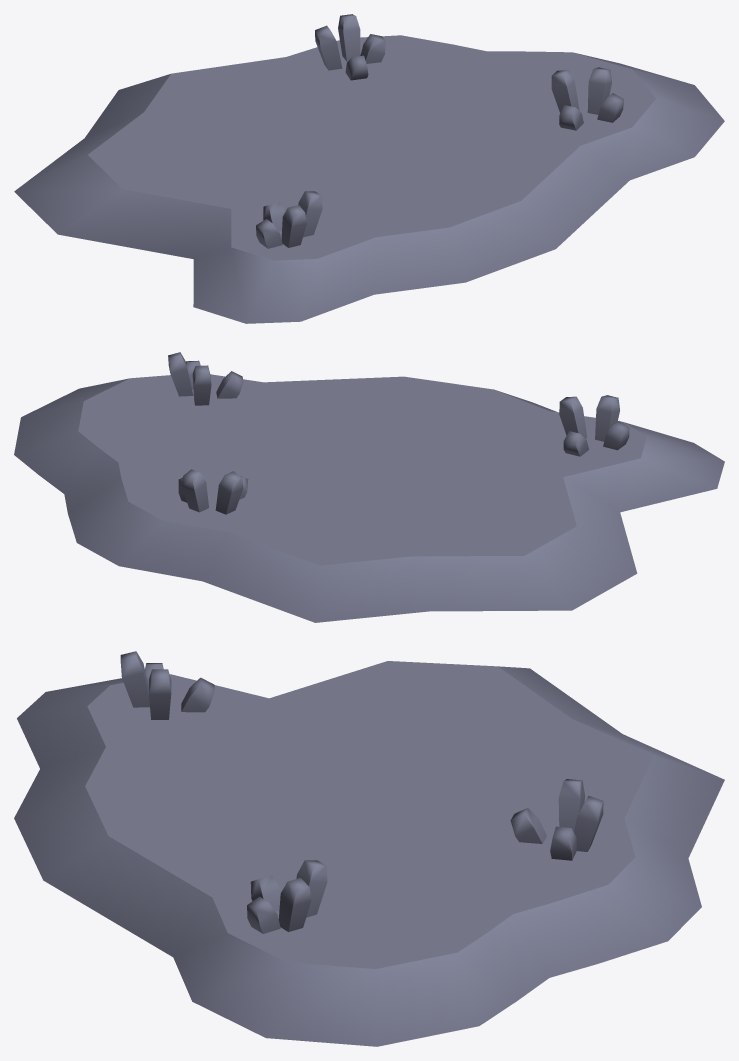
The model's file is patch-grass-foliage.fbx.
3 views of the same model, one above another, from view 1: azimuth 30°, elevation 25°; view 2: azimuth 150°, elevation 25°; view 3: azimuth 270°, elevation 25° (orthographic). The views are drawn at different scales.
Parts seen in each view (by area): view 1: patch-grass-foliage; view 2: patch-grass-foliage; view 3: patch-grass-foliage.
Boxes of the visible parts, x1,y1,x2,y2 form: patch-grass-foliage: [14, 14, 724, 323]; patch-grass-foliage: [14, 352, 724, 622]; patch-grass-foliage: [14, 651, 724, 1046].
Bounding box in the file's own units: 527 × 56.39 × 411.
